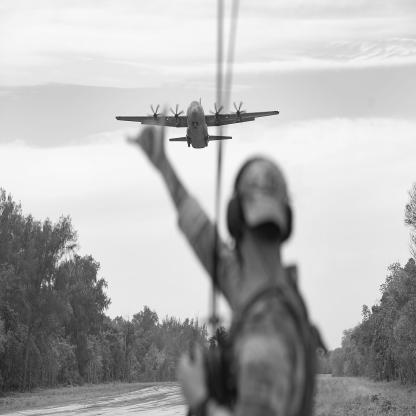C130: (117, 98, 281, 150)
